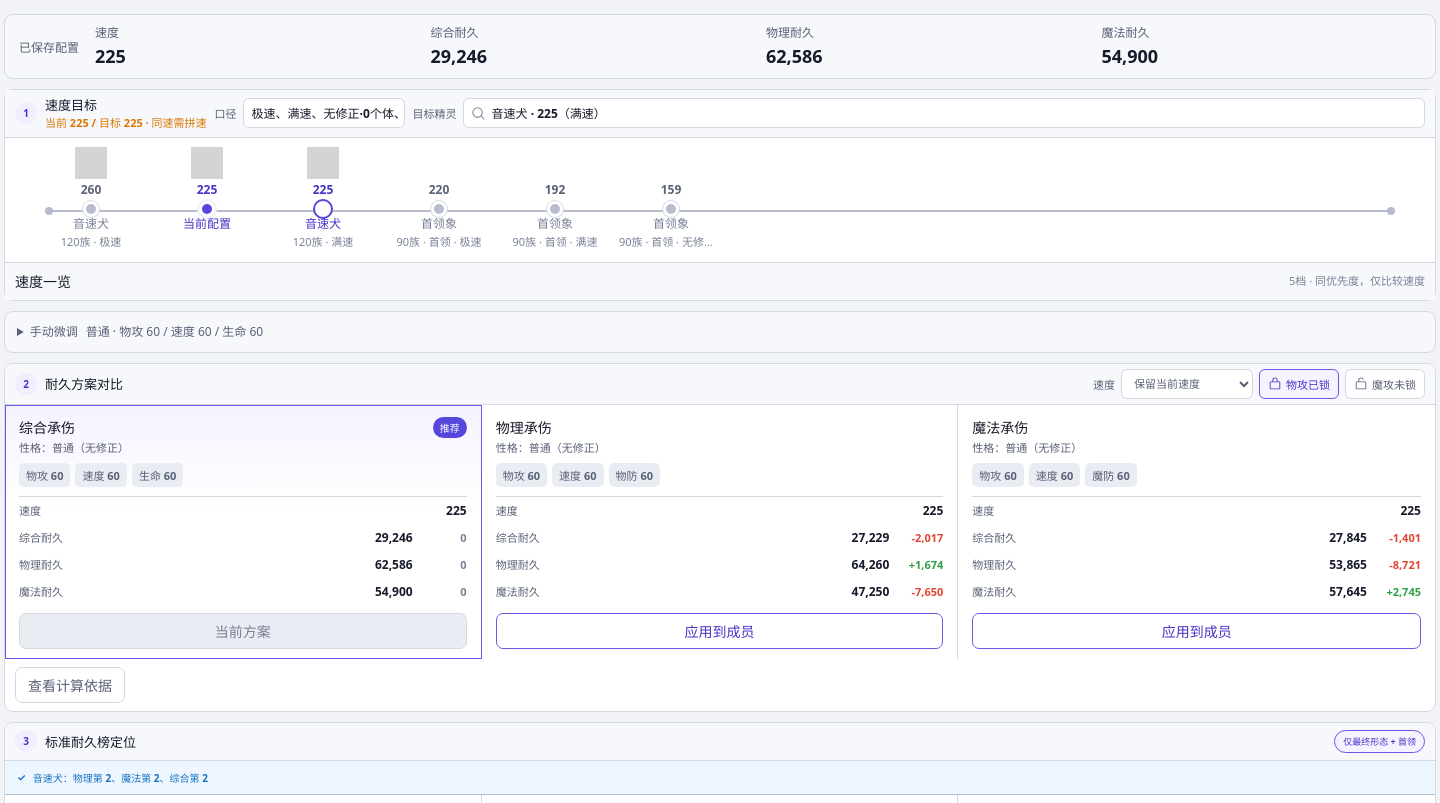
Test case: 应用方案后给出明确成功反馈
Click the button "应用到成员" below "47,250" at (720, 631), box [496, 613, 943, 649]
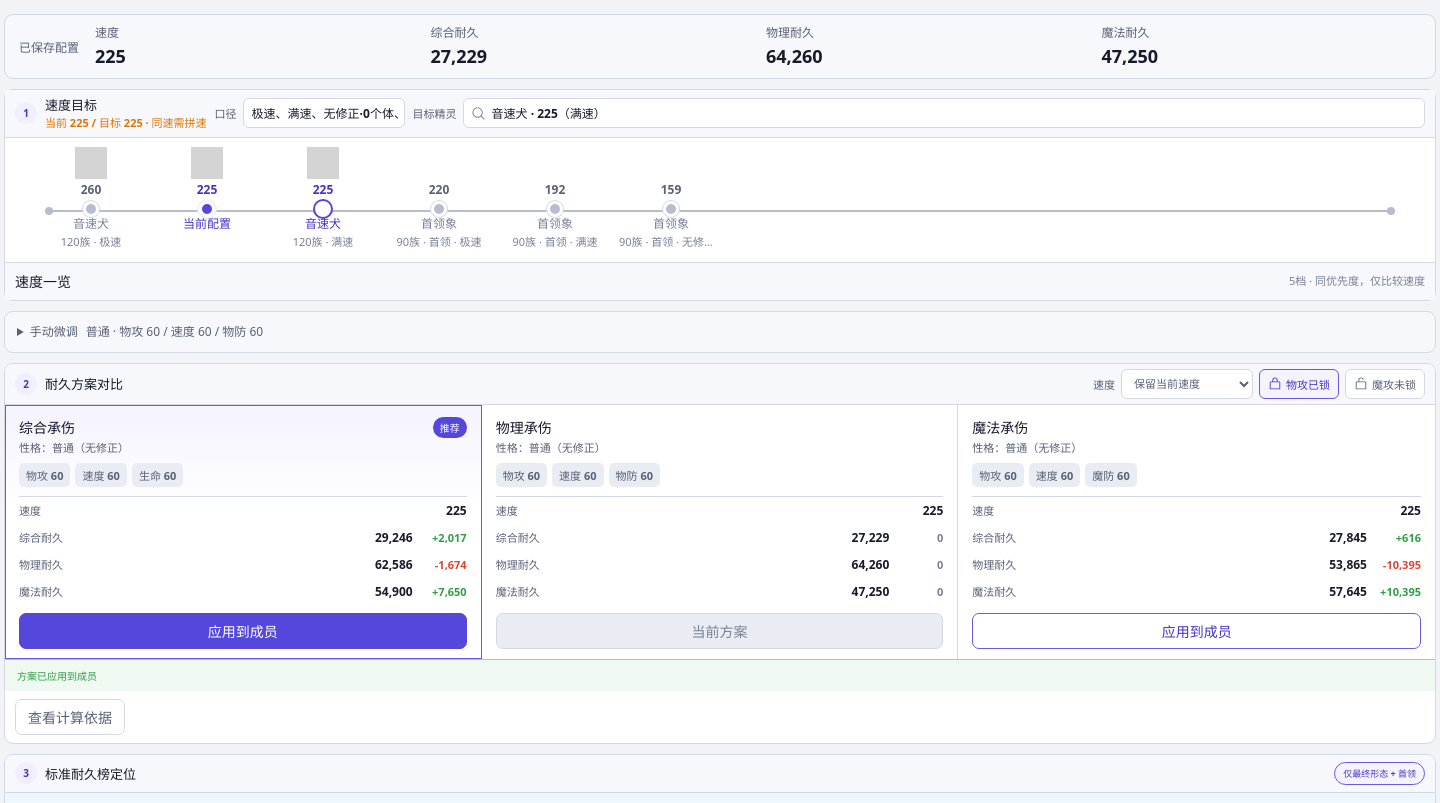
Check: the message reads "方案已应用到成员", box [17, 669, 97, 683]
